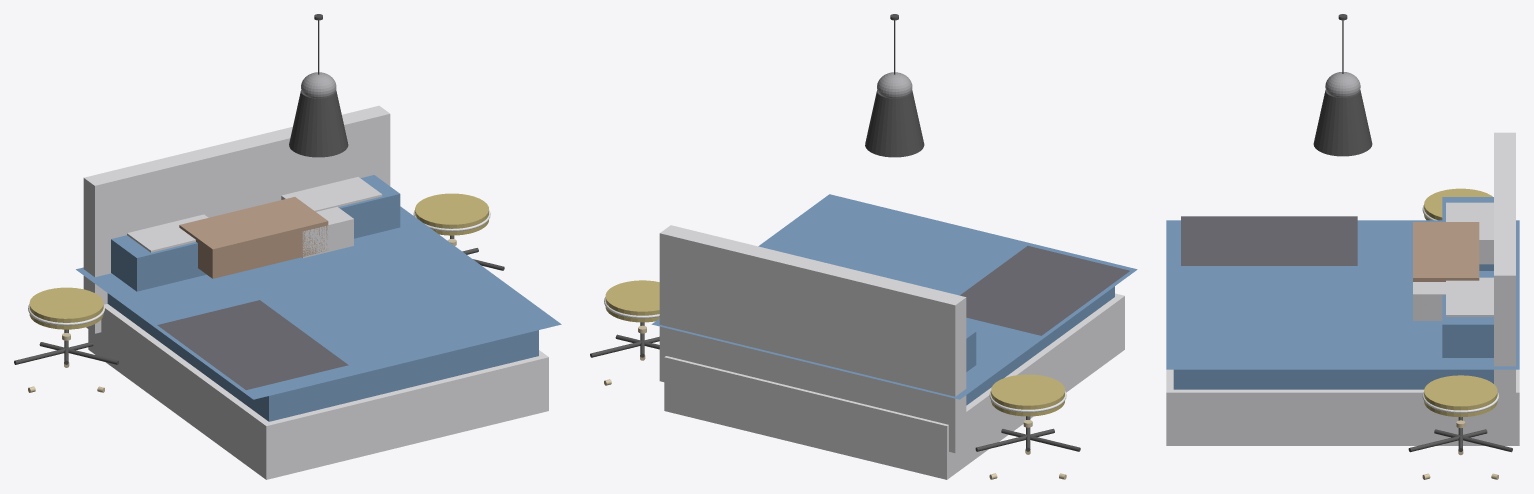
3 renders of one model, left to right at view 1: azimuth 30°, elevation 25°; view 2: azimuth 150°, elevation 25°; view 3: azimuth 270°, elevation 25°, orthographic.
Visible parts, largest first — view 1: duvet, bed_frame, headboard, mattress, throw, pillow_brown2, pillow_blue2, pillow_brown1, lamp_cage, nightstand_right_top, nightstand_left_top, pillow_blue1 (+4 smaller); view 2: headboard, bed_frame, duvet, throw, lamp_cage, nightstand_right_top, nightstand_left_top, mattress, lamp_cap; view 3: duvet, bed_frame, throw, headboard, mattress, lamp_cage, nightstand_left_top, pillow_brown1, pillow_blue1, pillow_gray1, pillow_brown2, pillow_gray2 (+6 smaller).
Part boxes in pixels (box(x1,y1,x2,y2)): duvet: box(76, 206, 561, 399); bed_frame: box(88, 304, 548, 479); headboard: box(83, 105, 390, 333); mattress: box(107, 293, 538, 421); throw: box(157, 300, 348, 390); pillow_brown2: box(179, 209, 276, 278); pillow_blue2: box(111, 235, 206, 291); pillow_brown1: box(231, 197, 328, 263); lamp_cage: box(289, 90, 348, 157); nightstand_right_top: box(29, 287, 103, 329); nightstand_left_top: box(415, 193, 488, 235); pillow_blue1: box(338, 175, 400, 238); headboard: box(659, 225, 966, 453); bed_frame: box(664, 293, 1124, 479); duvet: box(651, 194, 1137, 399); throw: box(960, 246, 1129, 335); lamp_cage: box(865, 90, 924, 157); nightstand_right_top: box(991, 374, 1064, 416); nightstand_left_top: box(605, 280, 659, 322); mattress: box(966, 286, 1114, 405); lamp_cap: box(877, 72, 912, 98); duvet: box(1166, 220, 1519, 369); bed_frame: box(1166, 369, 1519, 445); throw: box(1181, 216, 1357, 265); headboard: box(1494, 132, 1515, 422); mattress: box(1173, 369, 1493, 389); lamp_cage: box(1313, 90, 1372, 156); nightstand_left_top: box(1424, 375, 1497, 417); pillow_brown1: box(1413, 247, 1479, 281); pillow_blue1: box(1442, 295, 1493, 357); pillow_gray1: box(1446, 277, 1493, 316); pillow_brown2: box(1413, 222, 1479, 252); pillow_gray2: box(1446, 202, 1493, 264).
Bounding box in the file's own units: 3.66 × 2.71 × 2.4.
